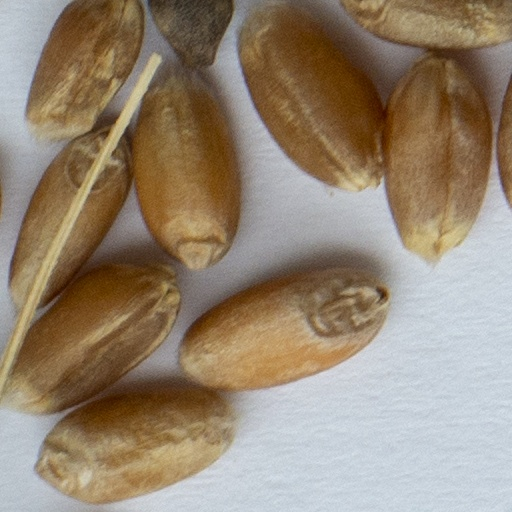Wheat-grain-damaged-poly: (0, 169, 169, 216)
